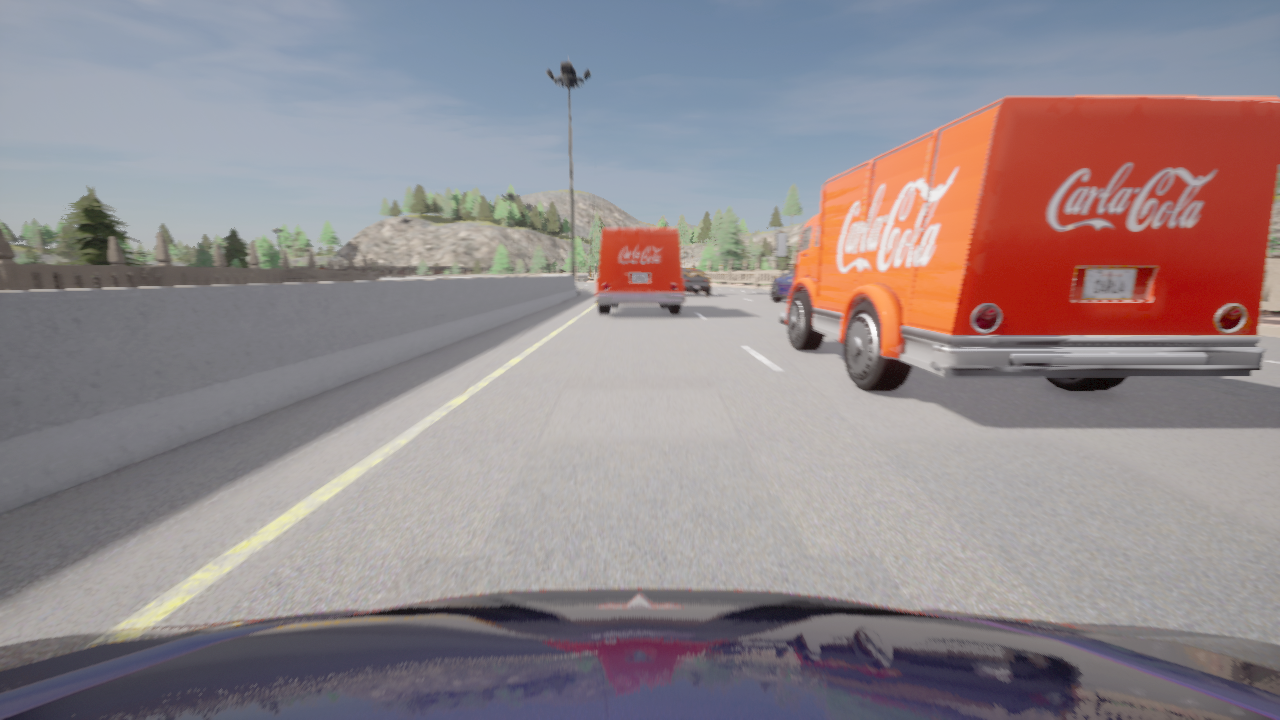cyclist: (0, 588, 1279, 719), (774, 95, 1279, 390), (595, 228, 684, 313), (771, 265, 793, 301), (681, 269, 710, 295)
pedestrian: (318, 264, 326, 269), (307, 268, 308, 269)
